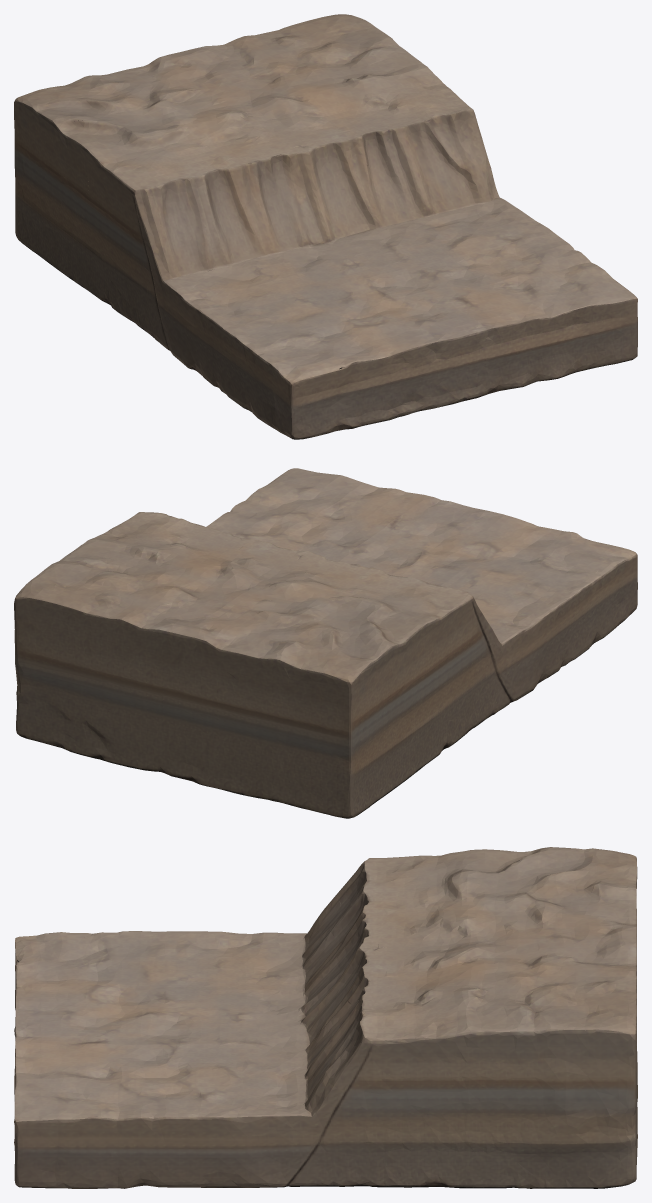
The picture shows the model from 3 angles, top to bottom: view 1: azimuth 30°, elevation 25°; view 2: azimuth 150°, elevation 25°; view 3: azimuth 270°, elevation 25°; orthographic projection. The views are drawn at different scales.
Parts seen in each view (by area): view 1: world; view 2: world; view 3: world.
Boxes of the visible parts, <box> form: world: <box>14,14,637,439</box>; world: <box>14,468,637,818</box>; world: <box>14,847,637,1188</box>.
Bounding box in the file's own units: 5.66 × 2.34 × 8.
Materials: 1 (1 with a texture image).
